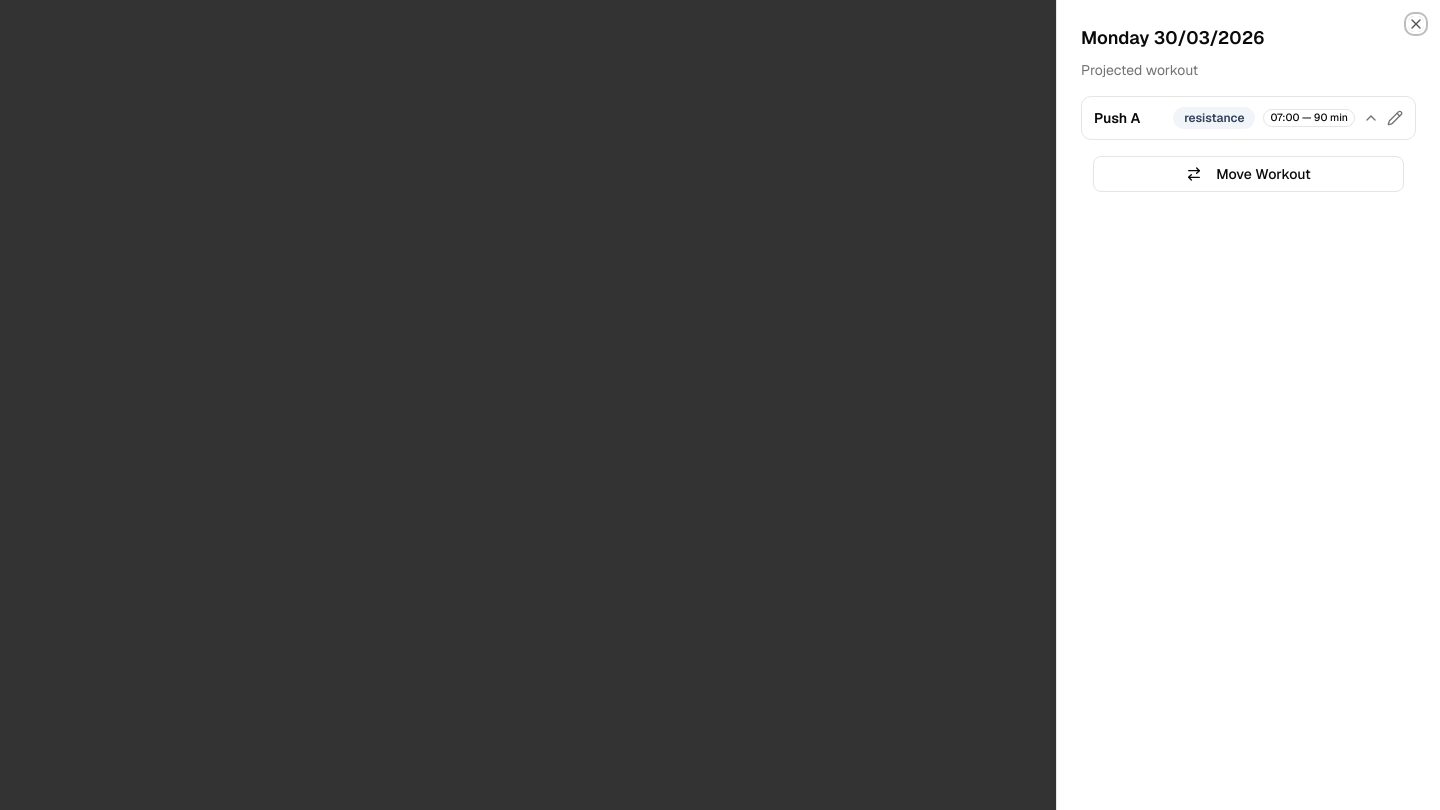
Test: T189: Day detail panel integration › clicking "Move Workout" opens the MoveWorkoutModal
Expected: the text "Push A" is shown, [1094, 109, 1140, 127]
Click the button with test id "move-workout-button": (1248, 174) [1093, 156, 1404, 192]
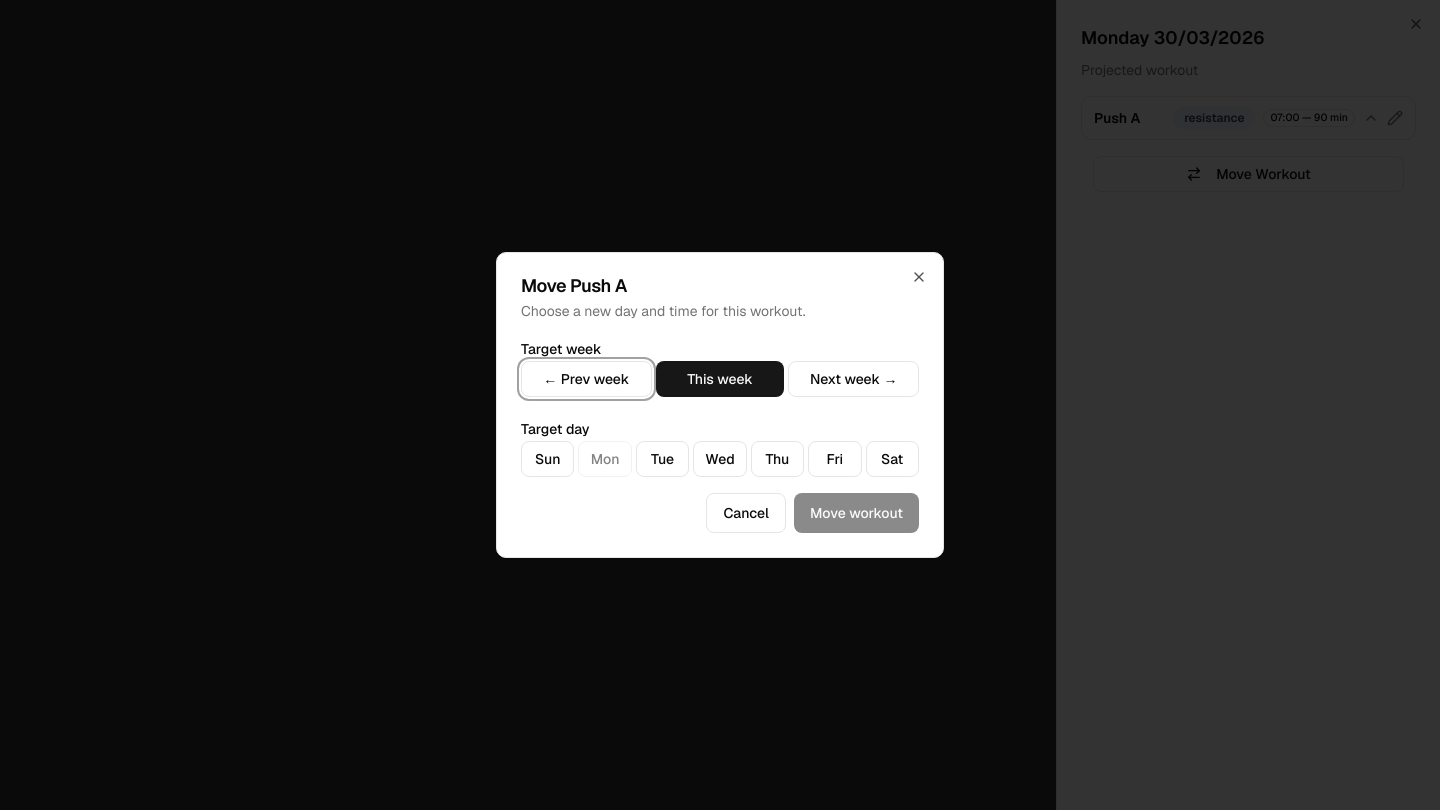
Expected: the heading "Move Push A" is shown, [521, 274, 627, 297]
